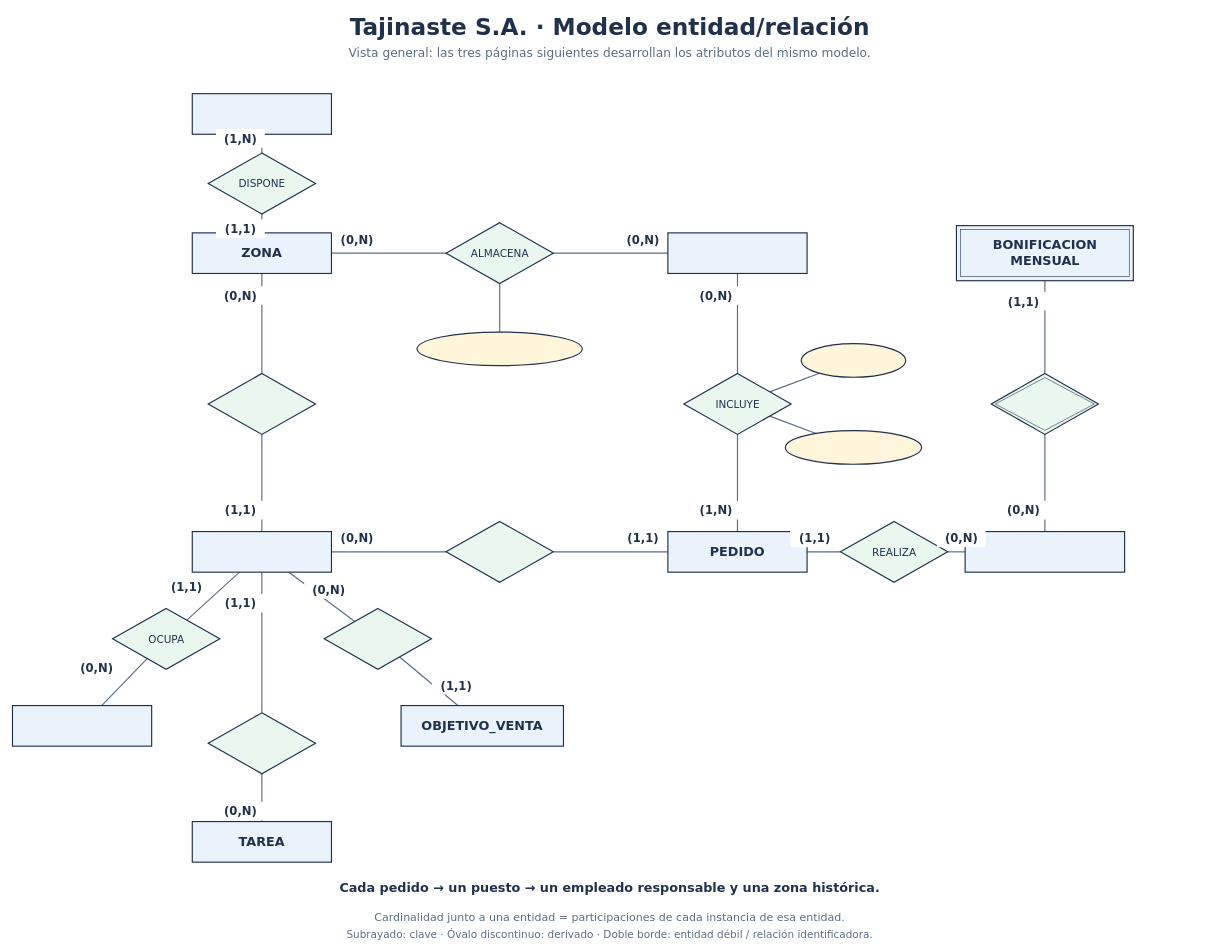
The diagram is 1219 pixels wide and 952 high, and some of its shapes have lost their labels. Here are the shapes that lost their labels. From the top down, the box of each, then its label:
(191, 93, 332, 135): VIVERO
(667, 232, 807, 274): PRODUCTO
(416, 331, 583, 366): unidades_disponibles
(800, 343, 906, 378): cantidad
(207, 373, 316, 435): EN_ZONA
(990, 373, 1099, 435): RECIBE
(784, 430, 922, 465): precio_unitario
(191, 531, 332, 572): PUESTO
(445, 521, 554, 583): GESTIONA
(964, 531, 1125, 572): CLIENTE_PLUS
(323, 608, 432, 670): TIENE
(12, 705, 152, 746): EMPLEADO
(207, 712, 316, 774): DESEMPEÑA
